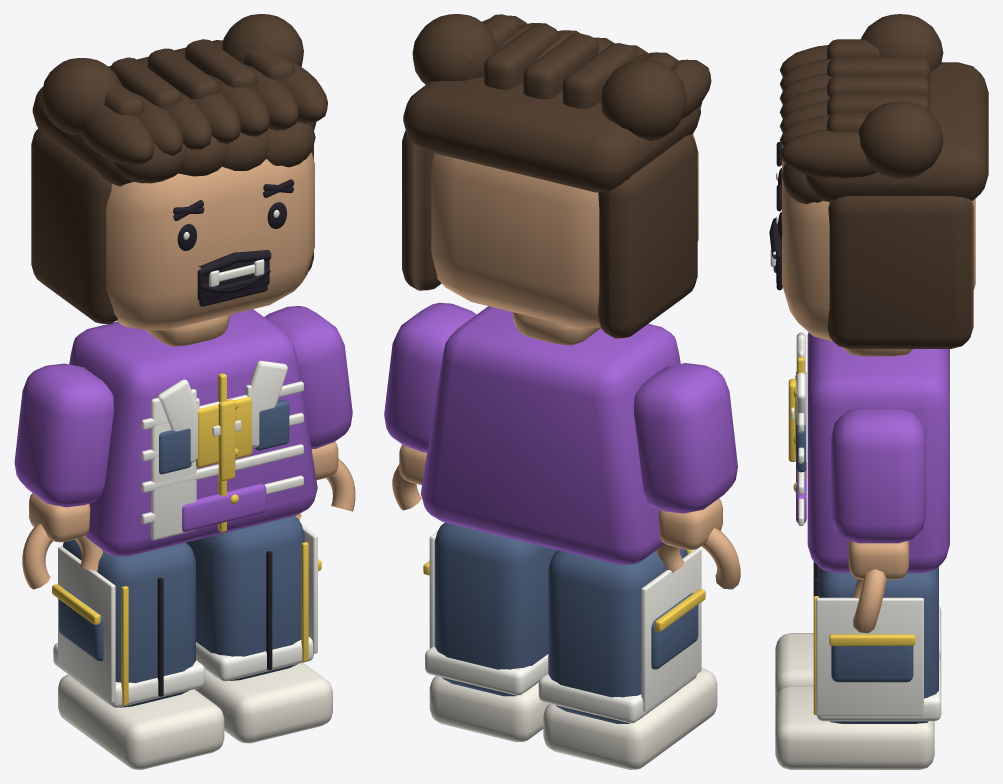
The model's file is kairos-toy.glb.
3 renders of one model, left to right at view 1: azimuth 30°, elevation 25°; view 2: azimuth 150°, elevation 25°; view 3: azimuth 270°, elevation 25°, orthographic. The views are drawn at different scales.
Parts seen in each view (by area): view 1: TaperedToyTorso, CrownInset, Curl, ArticulatedLeg.001, Bob, MouldedSleeve, ArticulatedLeg, ChunkyShoe, HairCap.004, ChunkyShoe.001, Bun, MouldedSleeve.001 (+23 smaller); view 2: TaperedToyTorso, Bun, CrownInset, Bob, ArticulatedLeg.001, ArticulatedLeg, MouldedSleeve, HairCap.004, ChunkyShoe, Curl, MouldedSleeve.001, SportsStripe (+10 smaller); view 3: Bob, TaperedToyTorso, Bun, MouldedSleeve.001, Curl, ChunkyShoe.001, SportsStripe.001, HairCap.004, CrownInset, ArticulatedLeg.001, OpenGrip.001, CargoPocket.001 (+11 smaller).
Part boxes in pixels (box(x1,y1,x2,y2)): TaperedToyTorso: box(69, 309, 317, 556); CrownInset: box(106, 152, 314, 330); Curl: box(32, 61, 327, 186); ArticulatedLeg.001: box(186, 516, 304, 680); Bob: box(31, 128, 313, 324); MouldedSleeve: box(14, 363, 113, 507); ArticulatedLeg: box(62, 539, 195, 707); ChunkyShoe: box(58, 674, 224, 769); HairCap.004: box(104, 35, 294, 117); ChunkyShoe.001: box(195, 663, 332, 743); Bun: box(36, 14, 316, 181); MouldedSleeve.001: box(264, 306, 352, 449); TaperedToyTorso: box(421, 306, 680, 564); Bun: box(403, 14, 698, 188); CrownInset: box(431, 134, 698, 328); Bob: box(402, 105, 699, 338); ArticulatedLeg.001: box(434, 522, 558, 696); ArticulatedLeg: box(548, 548, 687, 723); MouldedSleeve: box(634, 363, 737, 513); HairCap.004: box(466, 14, 677, 112); ChunkyShoe: box(543, 668, 717, 769); Curl: box(413, 15, 711, 192); MouldedSleeve.001: box(384, 302, 476, 452); SportsStripe: box(641, 548, 701, 711); Bob: box(807, 154, 984, 348); TaperedToyTorso: box(807, 332, 949, 573); Bun: box(806, 14, 988, 201); MouldedSleeve.001: box(831, 408, 925, 543); Curl: box(779, 45, 980, 201); ChunkyShoe.001: box(775, 686, 934, 769); SportsStripe.001: box(816, 597, 923, 715); HairCap.004: box(827, 39, 930, 132); CrownInset: box(782, 160, 975, 341); ArticulatedLeg.001: box(818, 566, 938, 723); OpenGrip.001: box(848, 540, 908, 633); CargoPocket.001: box(831, 646, 913, 682).
Size of the model in its own units: 0.8783 by 1.7 by 0.509.
